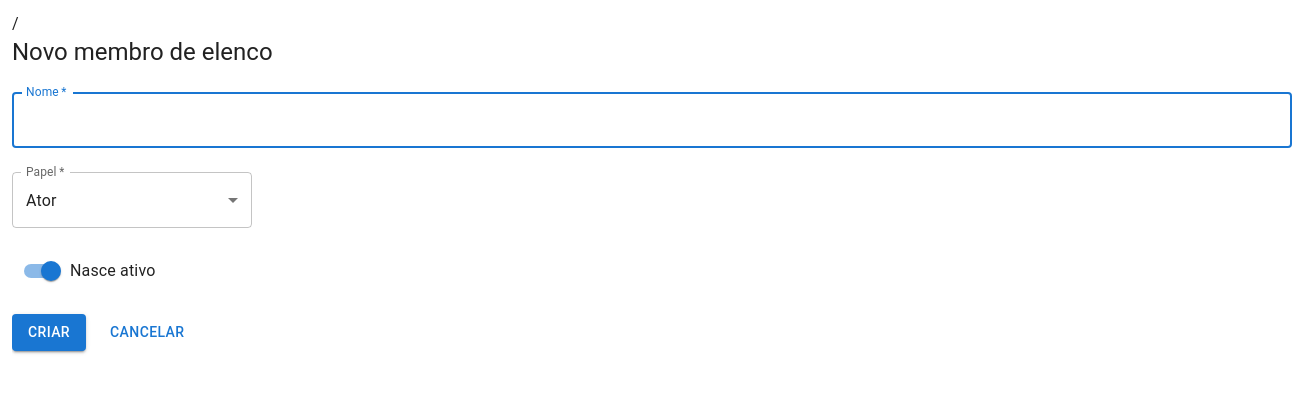
Test: CastMemberCreate › givenNomeCurto_whenTentaCriar_thenNaoChamaAApi
Step 1. Type "Vi" into the field labelled "Nome *" → [652, 120], box top-left (12, 92), bottom-right (1292, 148)
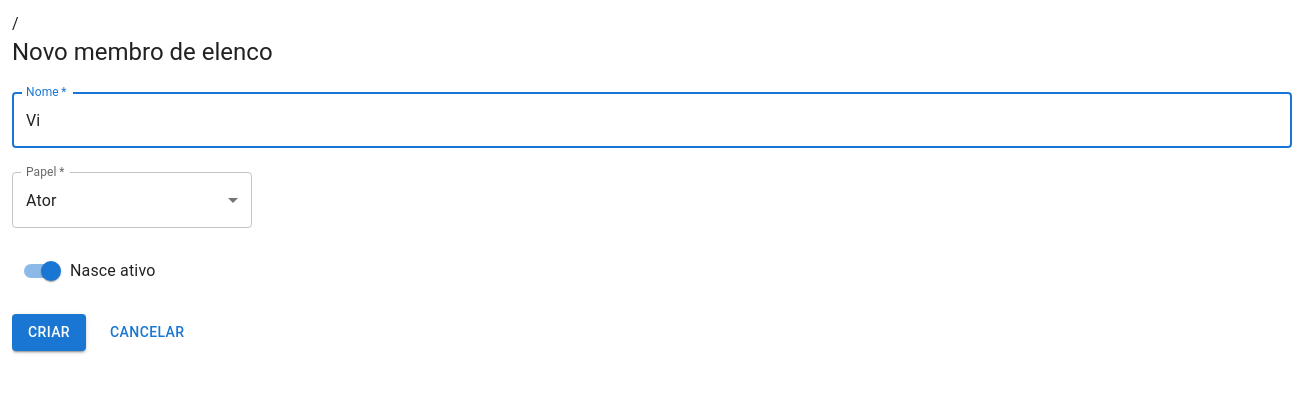
Step 2. Click the button "Criar" → [49, 332], box top-left (12, 314), bottom-right (86, 350)
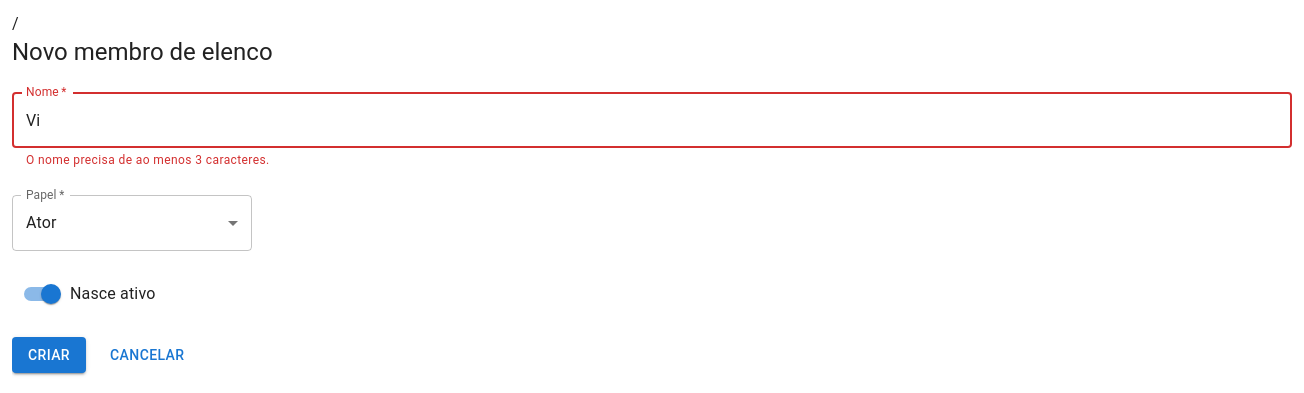
Expected: the text "O nome precisa de ao menos 3 caracteres." is shown, top-left (26, 153), bottom-right (270, 167)
